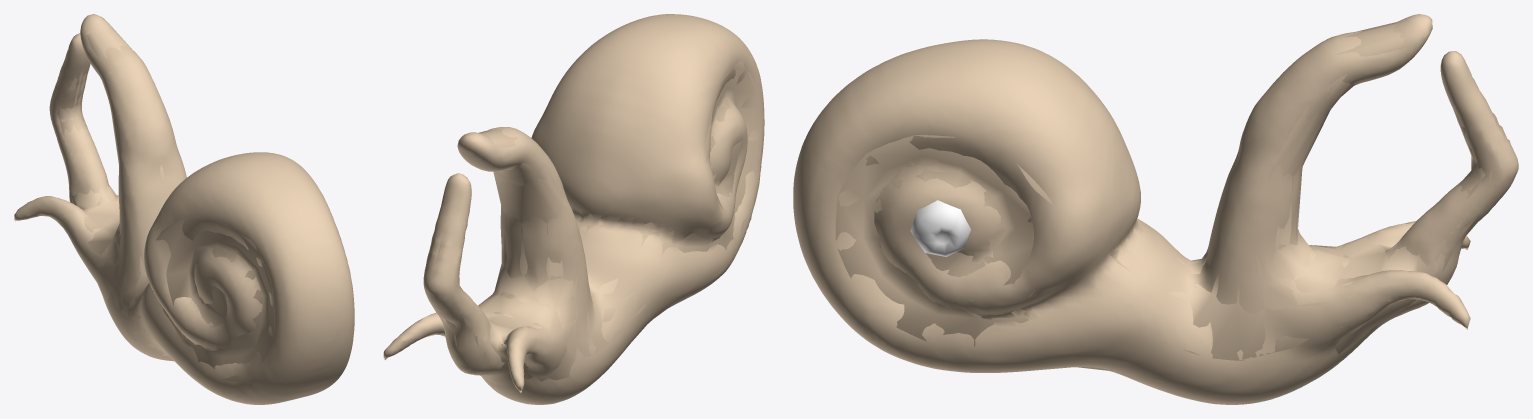
Rendered from new ear.glb.
3 views of the same model, side by side, from view 1: azimuth 30°, elevation 25°; view 2: azimuth 150°, elevation 25°; view 3: azimuth 270°, elevation 25° (orthographic). The views are drawn at different scales.
Visible parts, largest first — view 1: Roundcube, Retopo_Roundcube; view 2: Roundcube, Retopo_Roundcube; view 3: Roundcube, Retopo_Roundcube, Sphere.
Part boxes in pixels (x1=…): Roundcube: x1=14, y1=14, x2=354, y2=404; Retopo_Roundcube: x1=53, y1=22, x2=287, y2=390; Roundcube: x1=383, y1=14, x2=764, y2=404; Retopo_Roundcube: x1=425, y1=61, x2=762, y2=384; Roundcube: x1=793, y1=14, x2=1518, y2=404; Retopo_Roundcube: x1=835, y1=22, x2=1503, y2=383; Sphere: x1=910, y1=200, x2=970, y2=256.
Size of the model in its own units: 3.39 by 5.77 by 9.92.
